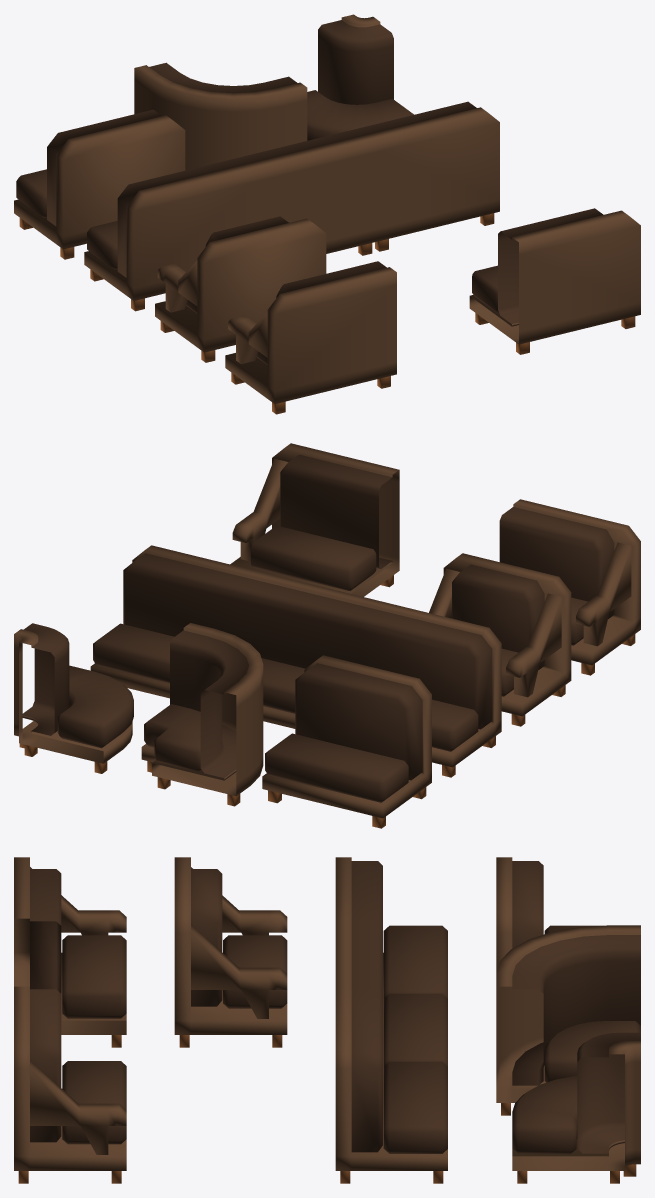
The model's file is Sofa.fbx.
3 renders of one model, top to bottom at view 1: azimuth 30°, elevation 25°; view 2: azimuth 150°, elevation 25°; view 3: azimuth 270°, elevation 25°, orthographic. The views are drawn at different scales.
Parts seen in each view (by area): view 1: SofaUright2, SofaUleft2, SofaUright, SofaUleft, SofaO, SofaO2, SofaI, SofaLInward, SofaLOutward; view 2: SofaO, SofaUright2, SofaLInward, SofaUleft2, SofaUleft, SofaO2, SofaUright, SofaI, SofaLOutward; view 3: SofaLInward, SofaO2, SofaUright2, SofaUright, SofaLOutward, SofaUleft2, SofaI, SofaUleft, SofaO.
Boxes of the visible parts, box(x1,y1,x2,y2) form: SofaUright2: box(469, 208, 640, 354); SofaUleft2: box(225, 261, 396, 414); SofaUright: box(359, 101, 499, 251); SofaUleft: box(84, 158, 255, 311); SofaO: box(14, 109, 185, 259); SofaO2: box(155, 216, 326, 362); SofaI: box(238, 128, 377, 255); SofaLInward: box(134, 62, 307, 170); SofaLOutward: box(307, 14, 413, 140); SofaO: box(262, 655, 431, 828); SofaUright2: box(230, 443, 399, 596); SofaLInward: box(141, 623, 263, 806); SofaUleft2: box(499, 499, 640, 675); SofaUleft: box(360, 601, 501, 777); SofaO2: box(429, 553, 571, 726); SofaUright: box(90, 545, 259, 698); SofaI: box(239, 572, 380, 728); SofaLOutward: box(14, 623, 133, 773); SofaLInward: box(496, 925, 640, 1115); SofaO2: box(174, 857, 287, 1047); SofaUright2: box(14, 986, 126, 1183); SofaUright: box(335, 986, 447, 1183); SofaLOutward: box(512, 1032, 640, 1183); SofaUleft2: box(14, 857, 126, 1047); SofaI: box(335, 918, 447, 1088); SofaUleft: box(335, 857, 447, 1020); SofaO: box(496, 857, 600, 971).
Size of the model in its own units: 3 by 0.9 by 3.9.
